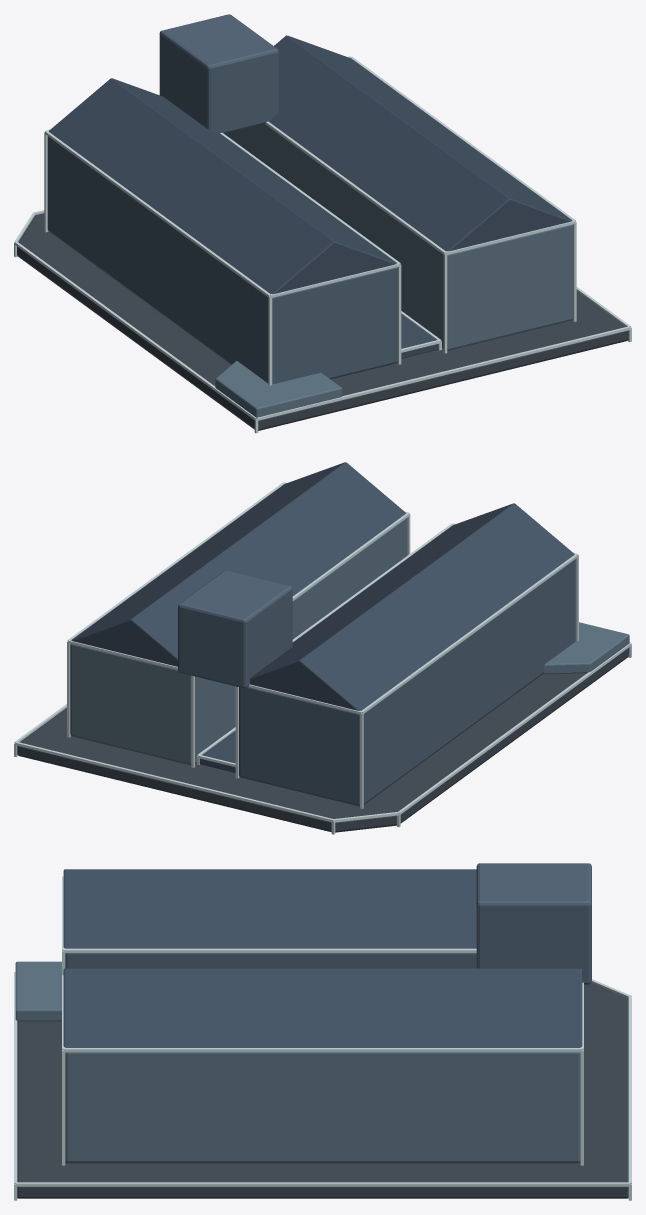
File: skill-go-v1.glb
The picture shows the model from 3 angles, top to bottom: view 1: azimuth 30°, elevation 25°; view 2: azimuth 150°, elevation 25°; view 3: azimuth 270°, elevation 25°; orthographic projection. The views are drawn at different scales.
Visible parts, largest first — view 1: skill-go-v1__mesh-roof__001, skill-go-v1__mesh-structure-dark__001, skill-go-v1__mesh-structure-mid__001, skill-go-v1__mesh-ground__001, skill-go-v1__technical-lines__001; view 2: skill-go-v1__mesh-roof__001, skill-go-v1__mesh-structure-dark__001, skill-go-v1__mesh-structure-mid__001, skill-go-v1__mesh-ground__001, skill-go-v1__technical-lines__001; view 3: skill-go-v1__mesh-roof__001, skill-go-v1__mesh-structure-mid__001, skill-go-v1__mesh-ground__001, skill-go-v1__mesh-structure-dark__001, skill-go-v1__technical-lines__001.
Part boxes in pixels (left/top/right/bottom): skill-go-v1__mesh-roof__001: left=49, top=35, right=571, bottom=358; skill-go-v1__mesh-structure-dark__001: left=47, top=14, right=397, bottom=384; skill-go-v1__mesh-structure-mid__001: left=215, top=124, right=573, bottom=417; skill-go-v1__mesh-ground__001: left=17, top=213, right=628, bottom=430; skill-go-v1__technical-lines__001: left=14, top=56, right=631, bottom=433; skill-go-v1__mesh-roof__001: left=71, top=462, right=574, bottom=772; skill-go-v1__mesh-structure-dark__001: left=178, top=559, right=575, bottom=806; skill-go-v1__mesh-structure-mid__001: left=70, top=518, right=629, bottom=765; skill-go-v1__mesh-ground__001: left=17, top=648, right=628, bottom=832; skill-go-v1__technical-lines__001: left=14, top=482, right=631, bottom=834; skill-go-v1__mesh-roof__001: left=63, top=869, right=582, bottom=1047; skill-go-v1__mesh-structure-mid__001: left=15, top=961, right=580, bottom=1163; skill-go-v1__mesh-ground__001: left=17, top=983, right=628, bottom=1198; skill-go-v1__mesh-structure-dark__001: left=65, top=863, right=591, bottom=984; skill-go-v1__technical-lines__001: left=14, top=876, right=631, bottom=1200.
Size of the model in its own units: 26.17 by 12.2 by 32.17.
